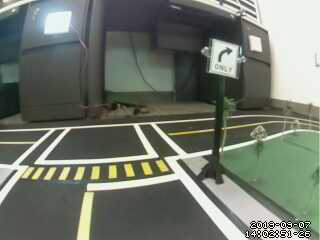Right_only_sign: (209, 37, 239, 78)
